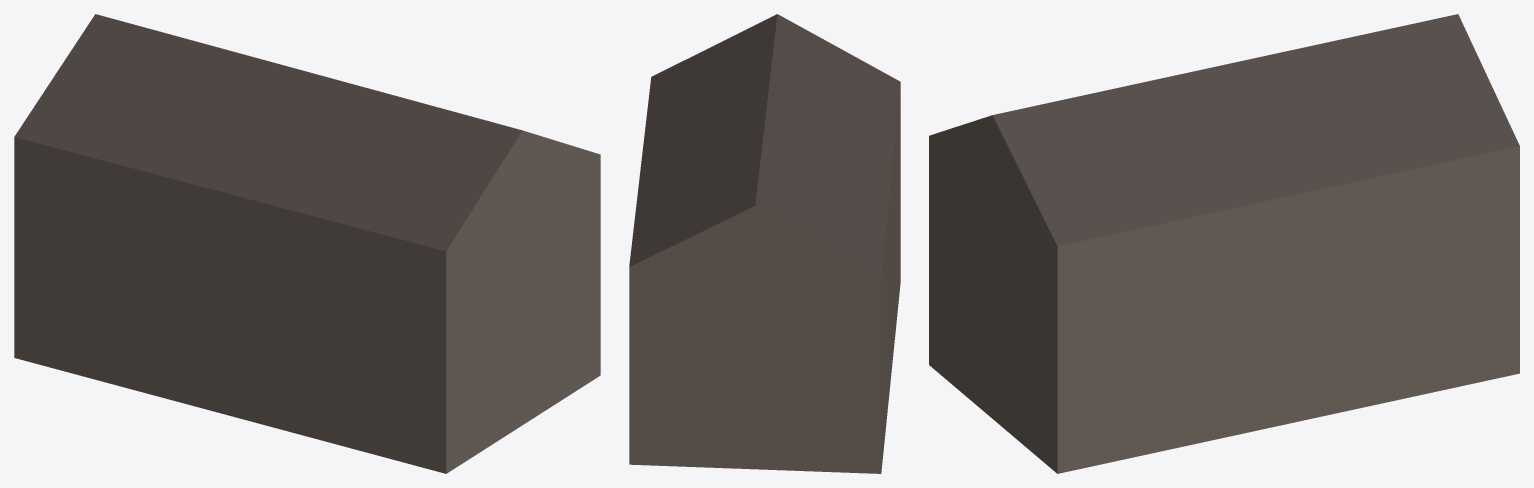
3 views of the same model, side by side, from view 1: azimuth 30°, elevation 25°; view 2: azimuth 150°, elevation 25°; view 3: azimuth 270°, elevation 25° (orthographic). The views are drawn at different scales.
Parts seen in each view (by area): view 1: HP-w1197053243; view 2: HP-w1197053243; view 3: HP-w1197053243.
Part boxes in pixels (x1,y1,x2,y2): HP-w1197053243: (14, 14, 600, 473); HP-w1197053243: (629, 14, 900, 473); HP-w1197053243: (929, 14, 1519, 473).
Bounding box in the file's own units: 12 × 8.01 × 14.13.
